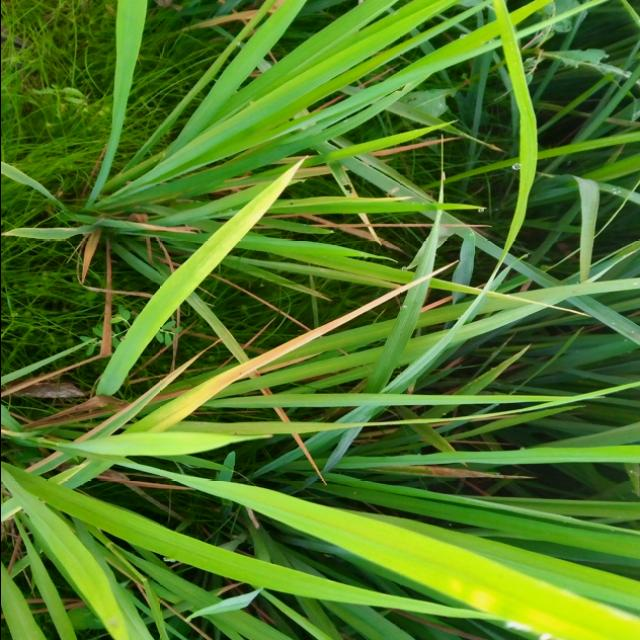Wereng: (154, 260, 460, 451)
